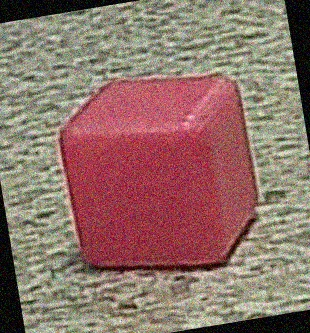red_cube: (49, 67, 280, 286)
